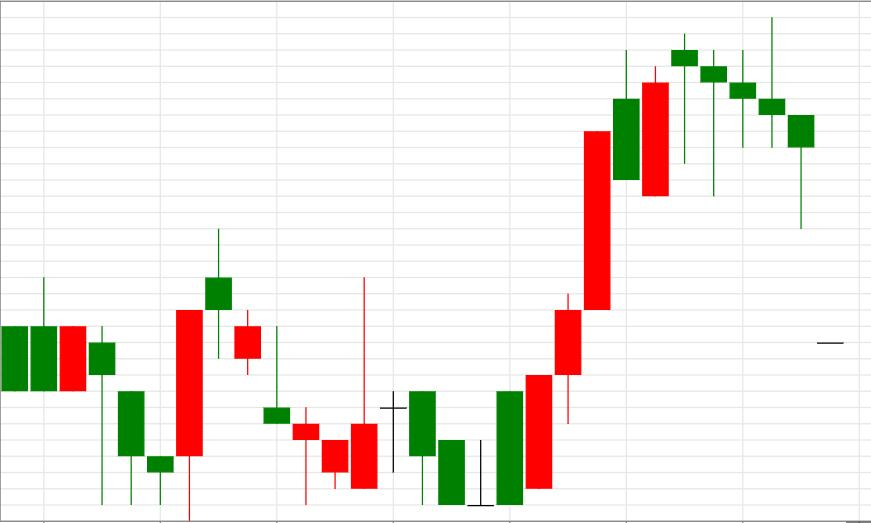hammer_rise: (672, 18, 815, 230)
three_white_soldiers_rise: (379, 130, 610, 507)
